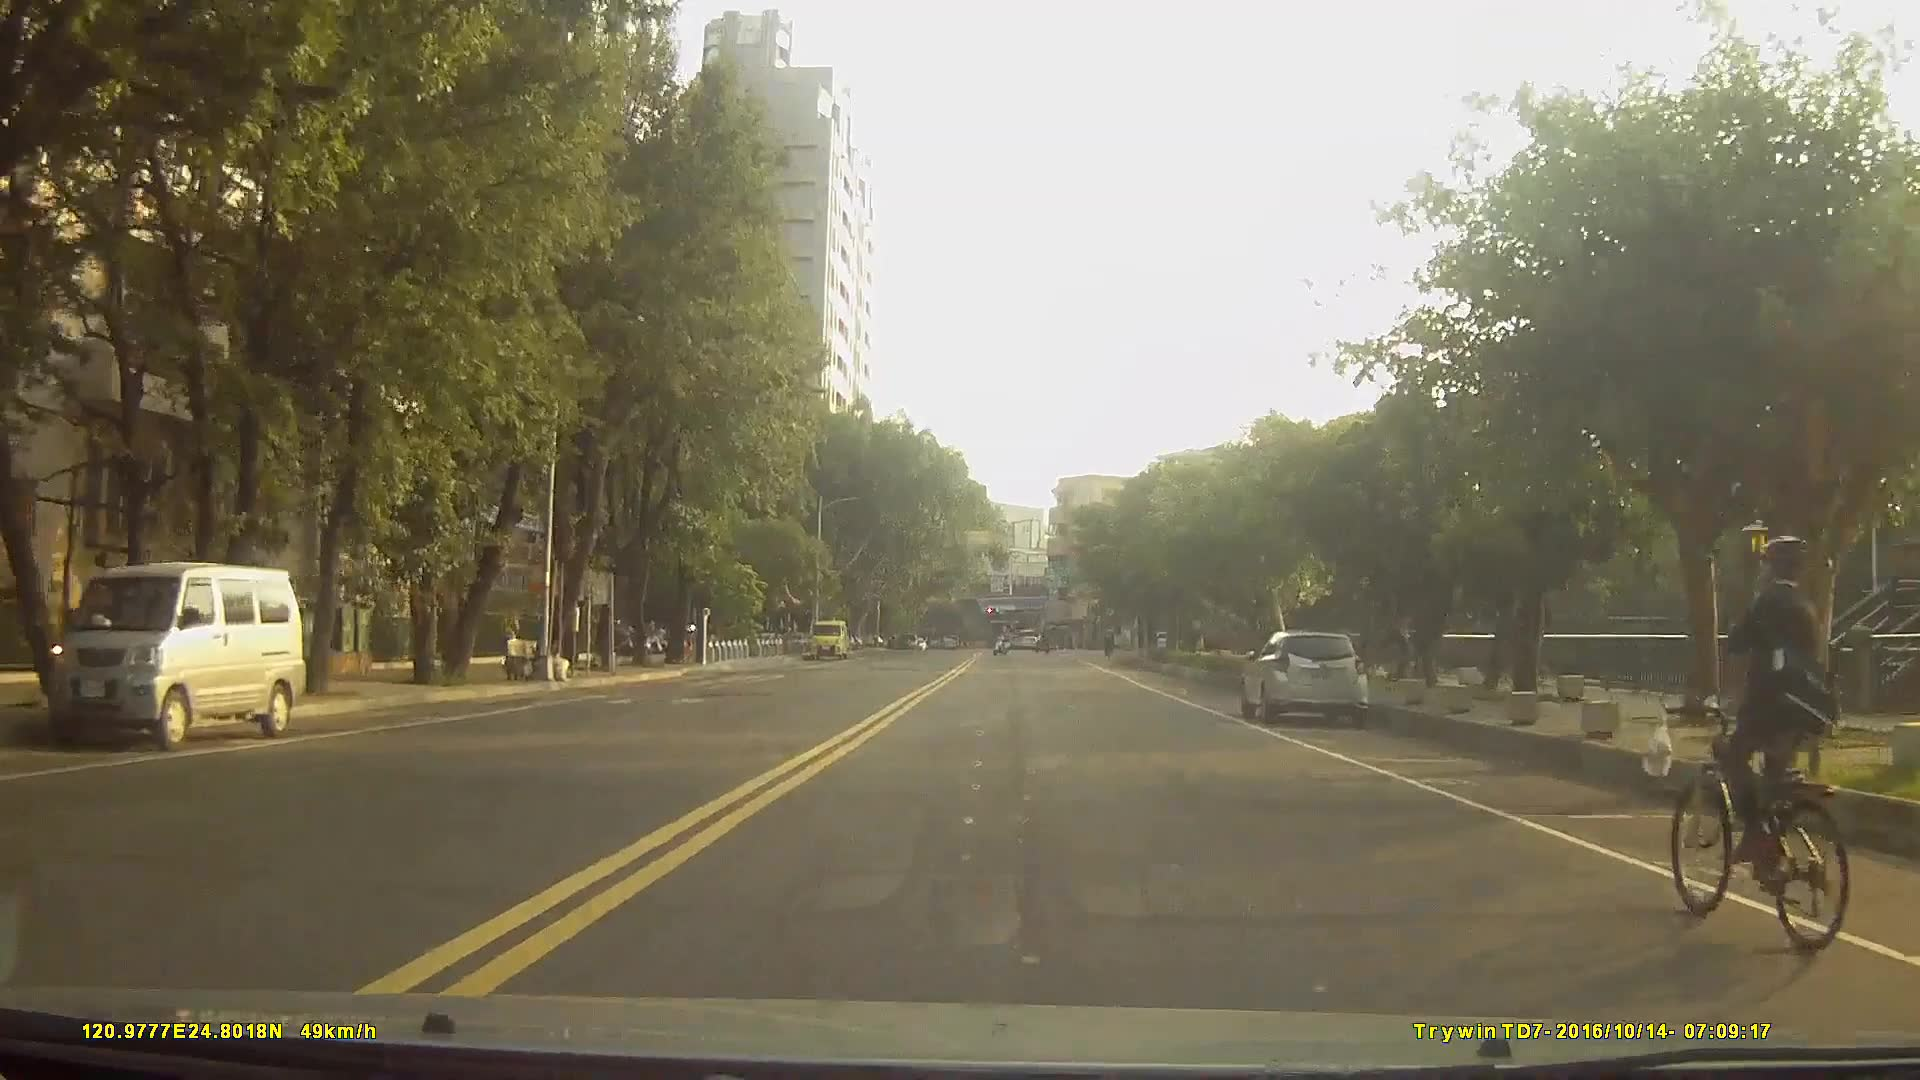rider: (1668, 535, 1856, 960)
vehicle: (47, 561, 308, 755), (1237, 628, 1372, 726), (1013, 627, 1040, 652)
